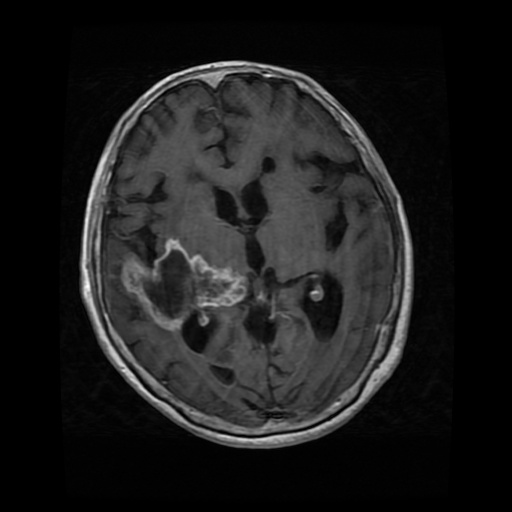glioma: (121, 238, 249, 331)
